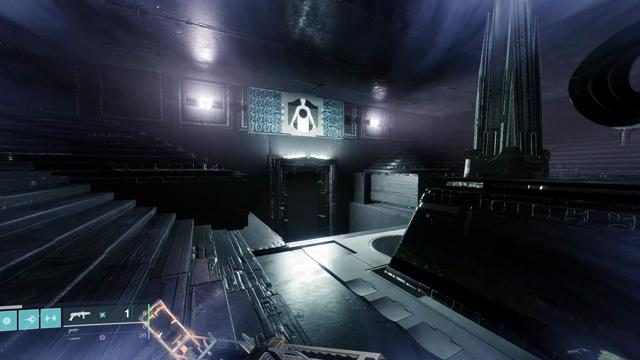grief: (288, 98, 318, 132)
